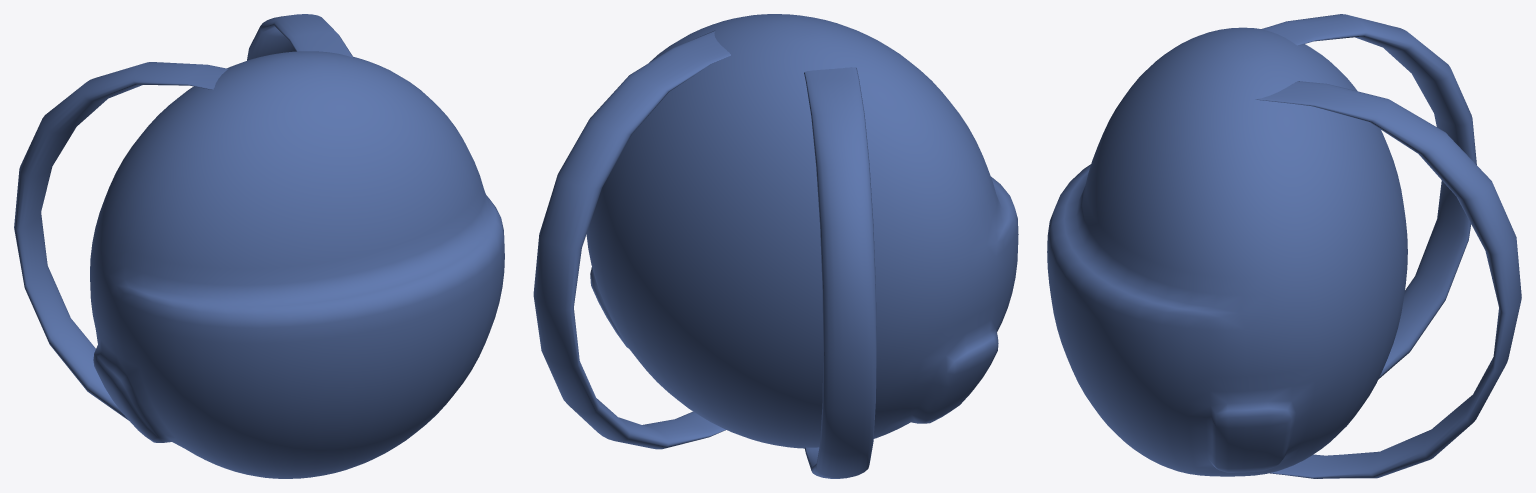
File: backpack.fbx
3 views of the same model, side by side, from view 1: azimuth 30°, elevation 25°; view 2: azimuth 150°, elevation 25°; view 3: azimuth 270°, elevation 25° (orthographic). The views are drawn at different scales.
Parts seen in each view (by area): view 1: backpack01, backpackstrap02, backpackstrap01; view 2: backpack01, backpackstrap02, backpackstrap01; view 3: backpack01, backpackstrap01, backpackstrap02.
Part boxes in pixels (x1=…): backpack01: x1=90, y1=51, x2=504, y2=478; backpackstrap02: x1=14, y1=62, x2=227, y2=420; backpackstrap01: x1=247, y1=14, x2=353, y2=60; backpack01: x1=586, y1=14, x2=1018, y2=448; backpackstrap02: x1=804, y1=67, x2=876, y2=478; backpackstrap01: x1=533, y1=30, x2=730, y2=449; backpack01: x1=1047, y1=27, x2=1407, y2=476; backpackstrap01: x1=1255, y1=81, x2=1521, y2=478; backpackstrap02: x1=1261, y1=14, x2=1476, y2=379.
Size of the model in its own units: 1.64 by 1.64 by 1.73.
